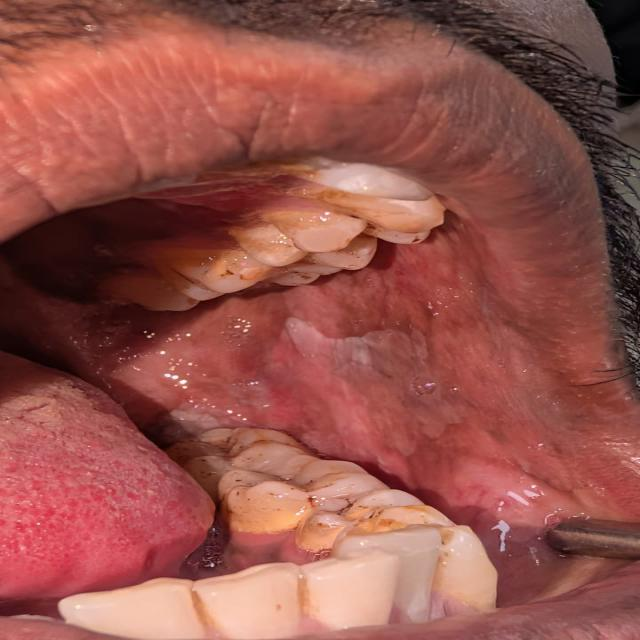leukoplakia-detection: (101, 295, 561, 479)
processing_area: (0, 230, 583, 592)
